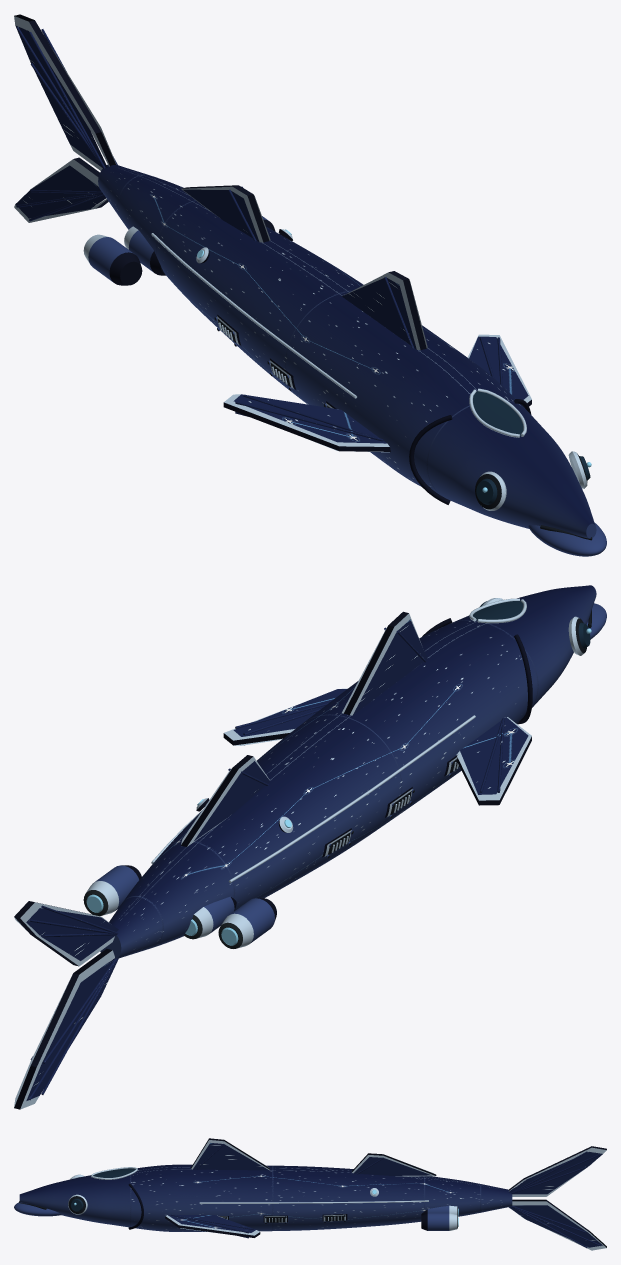
3 renders of one model, top to bottom at view 1: azimuth 30°, elevation 25°; view 2: azimuth 150°, elevation 25°; view 3: azimuth 270°, elevation 25°, orthographic. The views are drawn at different scales.
Parts seen in each view (by area): view 1: barracuda_hull; view 2: barracuda_hull; view 3: barracuda_hull.
Part boxes in pixels (x1,y1,x2,y2): barracuda_hull: (14,14,606,556); barracuda_hull: (14,585,606,1109); barracuda_hull: (14,1138,606,1250).
Size of the model in its own units: 17.8 by 13.36 by 64.8.
1 material, 1 textured.
